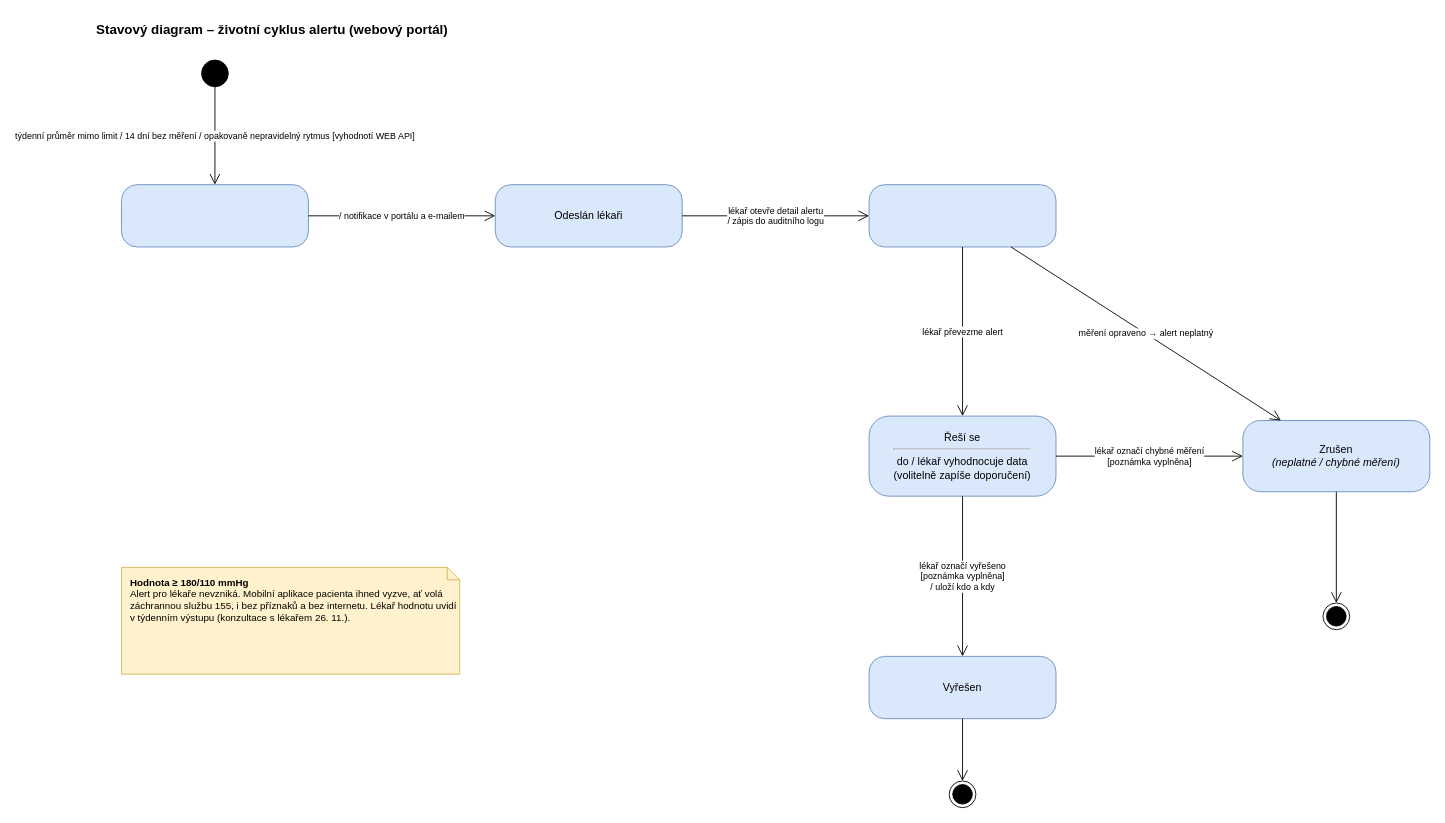
Image size: 1445x823. Some labels were removed from this diagram. Each missing label, with the centre of its shape:
"Vytvořen" belongs at point (214, 215).
"Zobrazen" belongs at point (962, 215).
